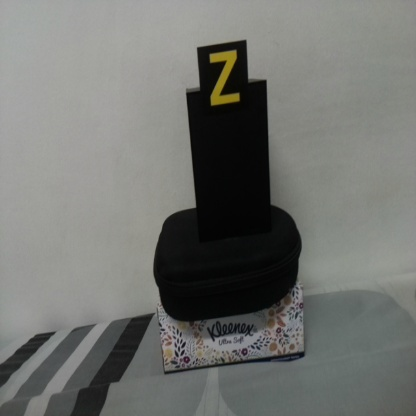id_15: (198, 47, 248, 111)
